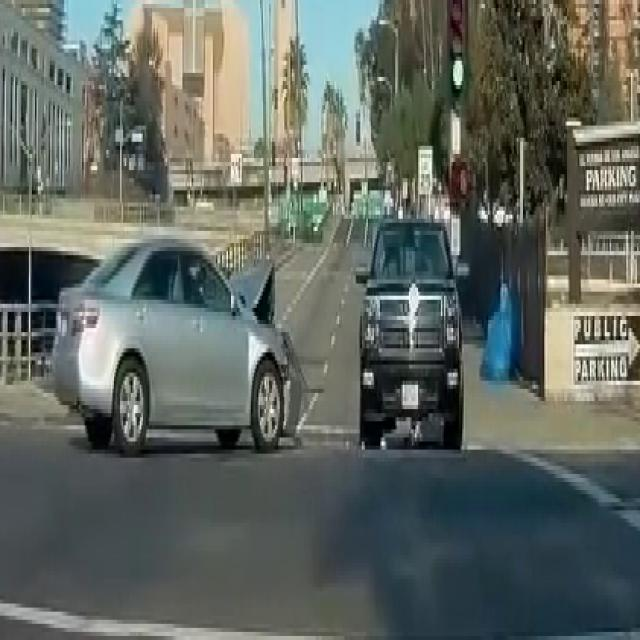accident: (62, 206, 306, 456)
